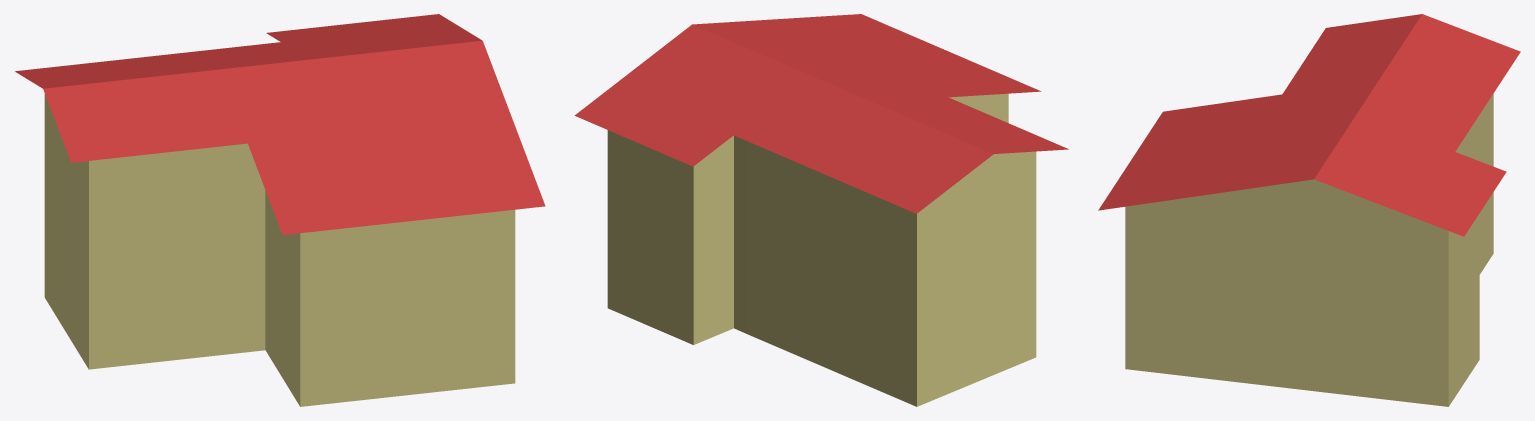
The picture shows the model from 3 angles, left to right: view 1: azimuth 30°, elevation 25°; view 2: azimuth 150°, elevation 25°; view 3: azimuth 270°, elevation 25°; orthographic projection. The views are drawn at different scales.
Size of the model in its own units: 20.8 by 19.13 by 11.06.
